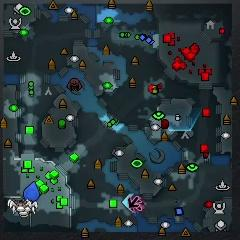p1: (24, 181, 40, 202)
x1: (132, 202, 146, 214)
x1Clone: (132, 197, 144, 212), (128, 196, 139, 208)
x3: (122, 193, 133, 211)
